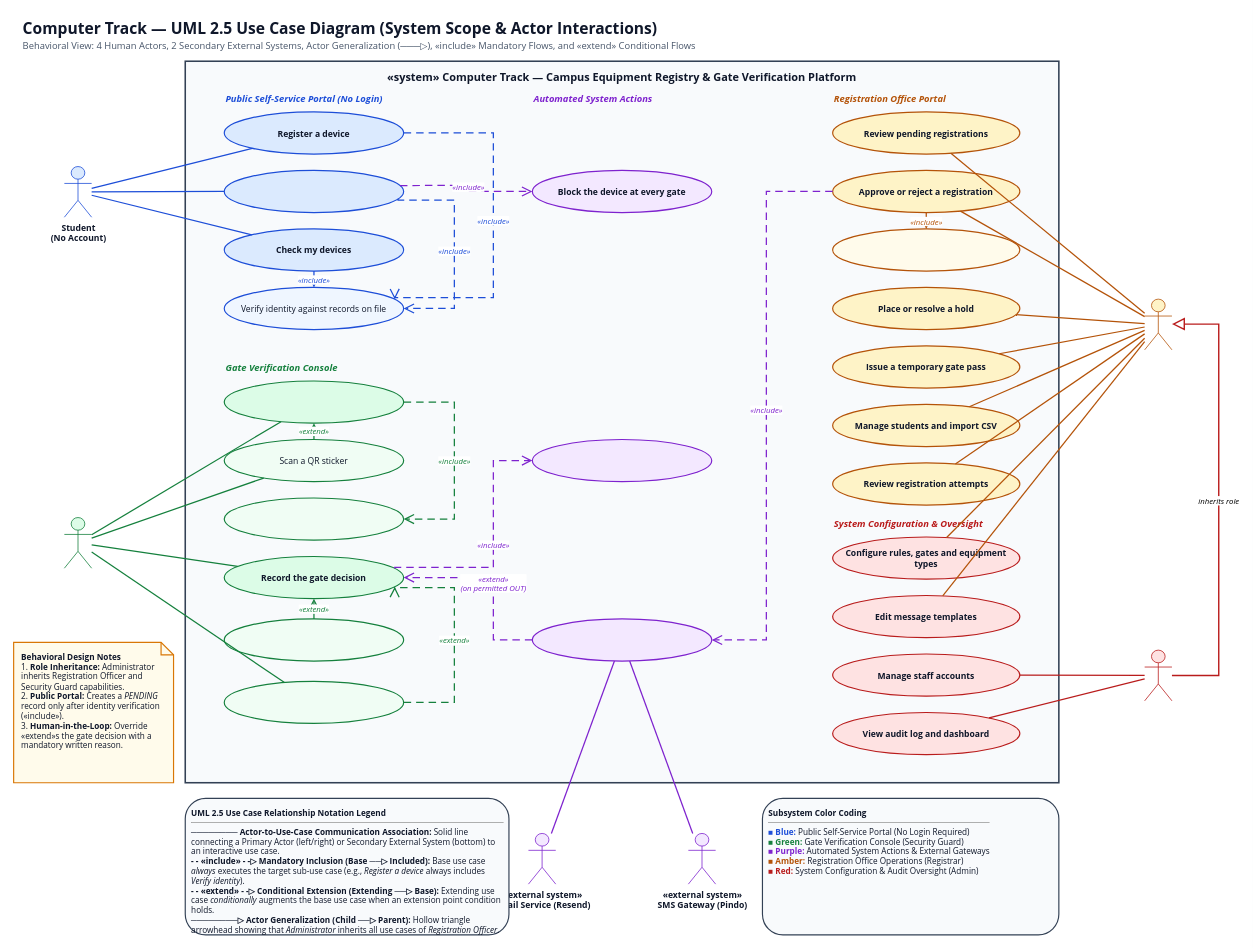
The diagram is 1253 pixels wide and 948 high, and some of its shapes have lost their labels. Here are the shapes that lost their labels. From the top down, the centre of each, then its label:
At (313,191): "Report a device lost or stolen".
At (926,249): "Record approval evidence".
At (1158,324): "Registration Officer".
At (313,401): "Look up a device".
At (621,460): "Write to the append-only scan log".
At (313,518): "View owner photograph and device status".
At (78,542): "Security Guard".
At (313,639): "Override a hold with a written reason".
At (621,639): "Send a notification".
At (1158,675): "Administrator".
At (313,702): "Queue a decision offline and sync later".
